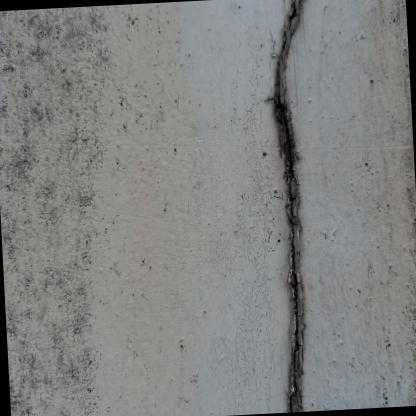crack: (270, 0, 305, 412)
